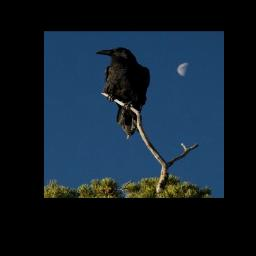Crow: (94, 47, 151, 141)
